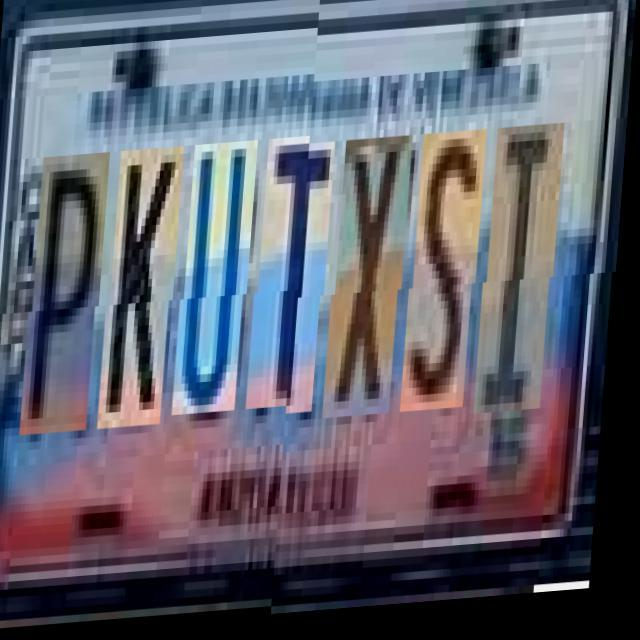I: (484, 132, 568, 422)
K: (107, 157, 186, 439)
P: (29, 162, 112, 444)
S: (410, 138, 490, 420)
T: (256, 148, 338, 422)
U: (182, 152, 260, 426)
X: (332, 143, 416, 424)
